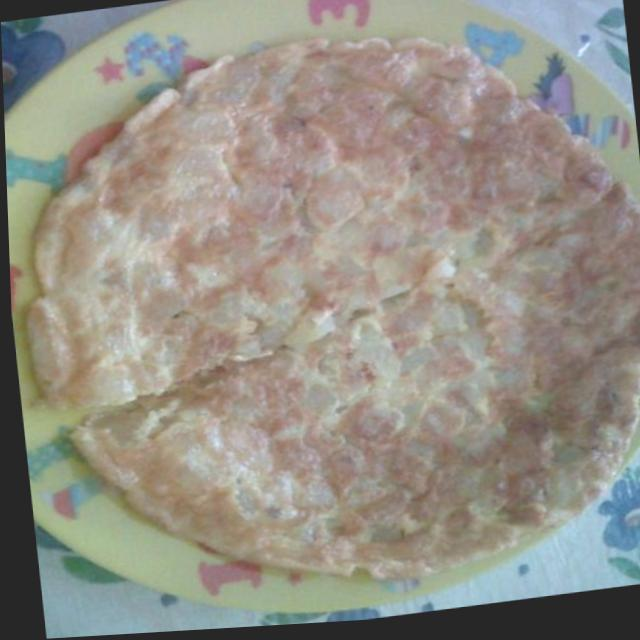面包点心: (12, 0, 640, 625)
